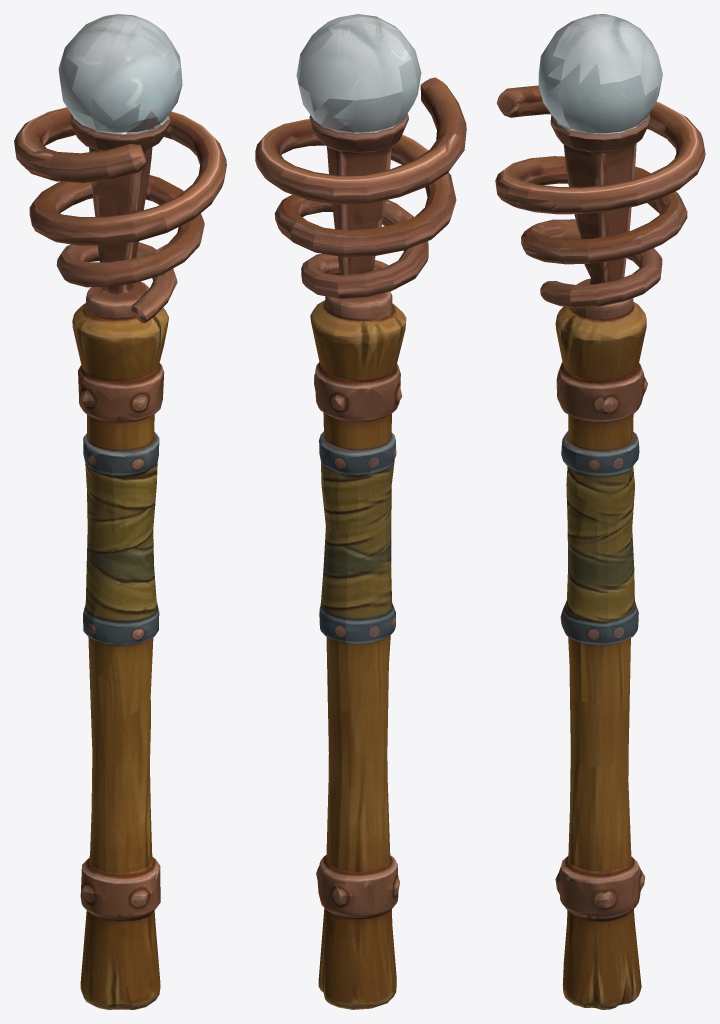
The model's file is npc_acc_rod_staff.glb.
3 renders of one model, left to right at view 1: azimuth 30°, elevation 25°; view 2: azimuth 150°, elevation 25°; view 3: azimuth 270°, elevation 25°, orthographic.
Parts seen in each view (by area): view 1: output_unwrapped; view 2: output_unwrapped; view 3: output_unwrapped.
Part boxes in pixels (x1,y1,x2,y2): output_unwrapped: (14,14,226,1009); output_unwrapped: (255,14,466,1009); output_unwrapped: (495,14,705,1009).
Size of the model in its own units: 0.3629 by 1.85 by 0.3604.
1 material, 1 textured.
